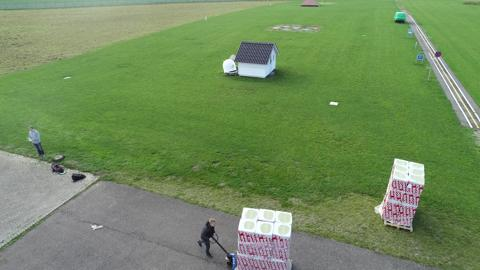RockwoolPallet: (237, 209, 292, 269)
